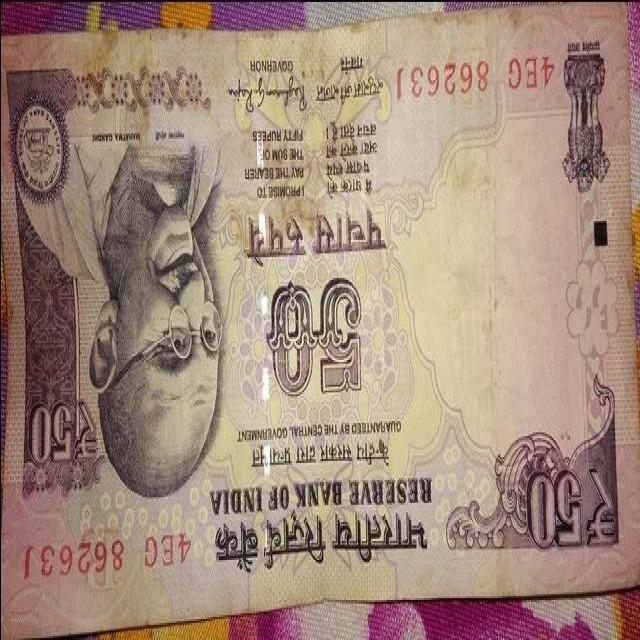50IndianRupees: (2, 38, 628, 566)
